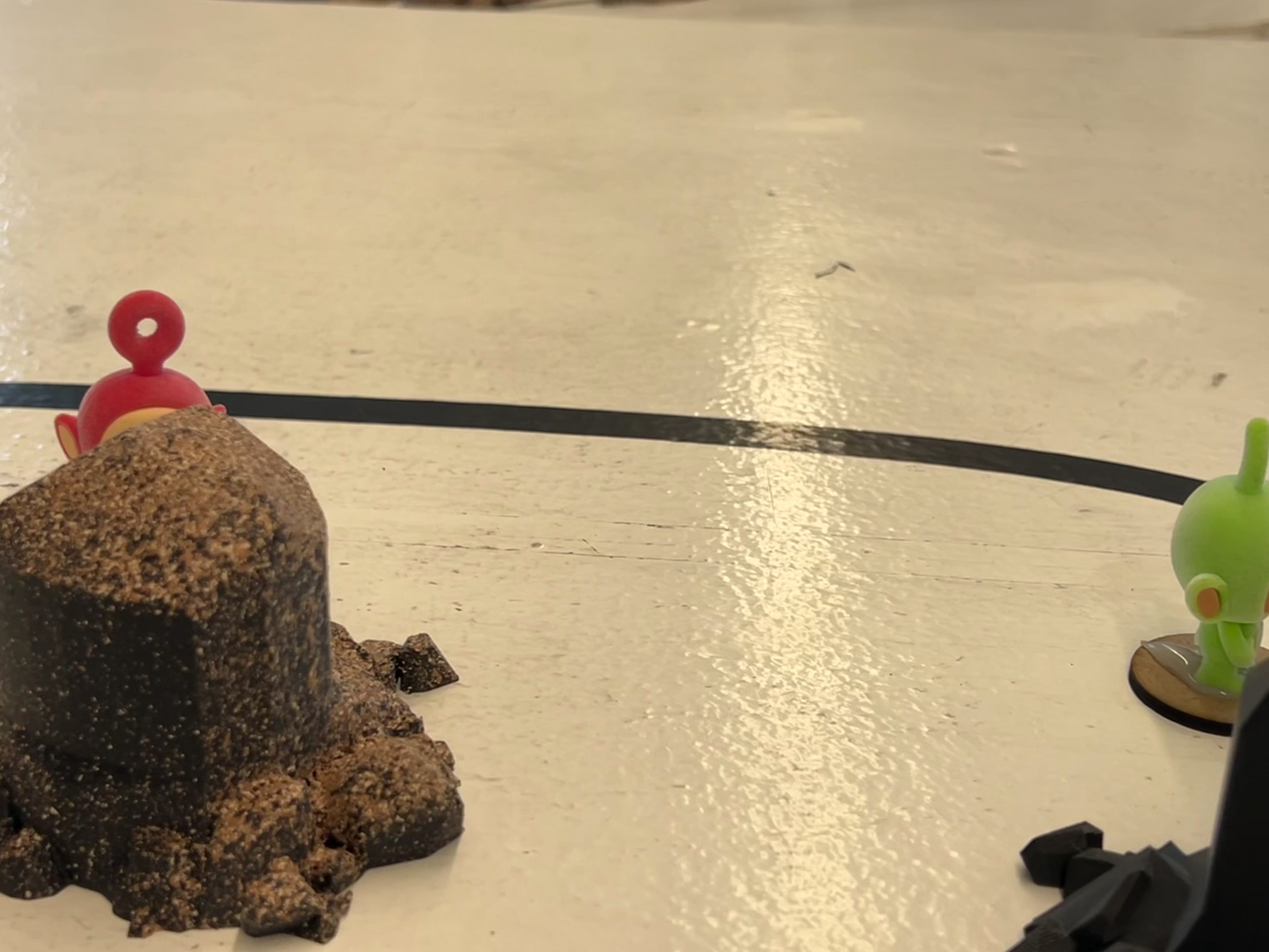teletubby: (55, 290, 225, 459), (1171, 418, 1268, 695)
